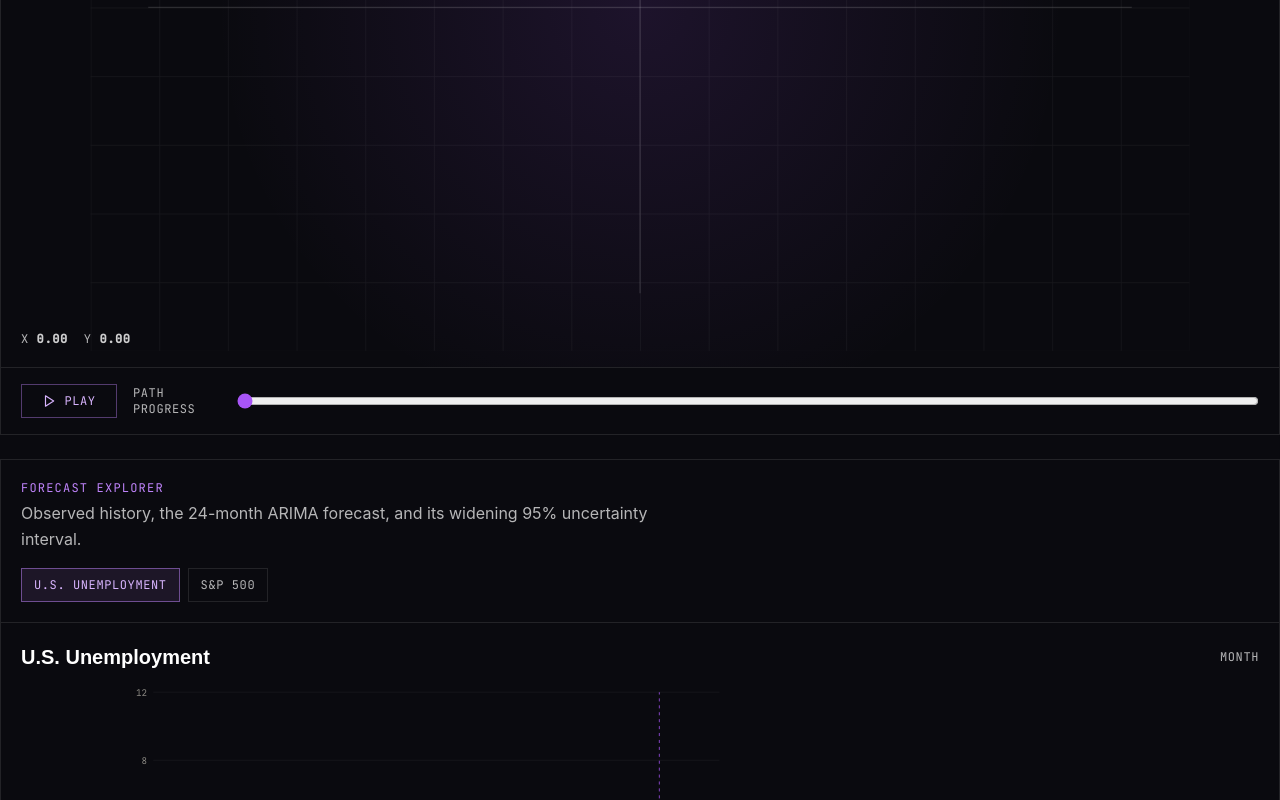
plays and scrubs the fixed Brownian bridge
The image size is (1280, 800).
(page scrolled)
Check: the slider with test id "bridge-slider" holds "0", box [237,393,1259,409]
Click the button with test id "bridge-play": (69, 401) [21,384,117,418]
Wait 200 ms
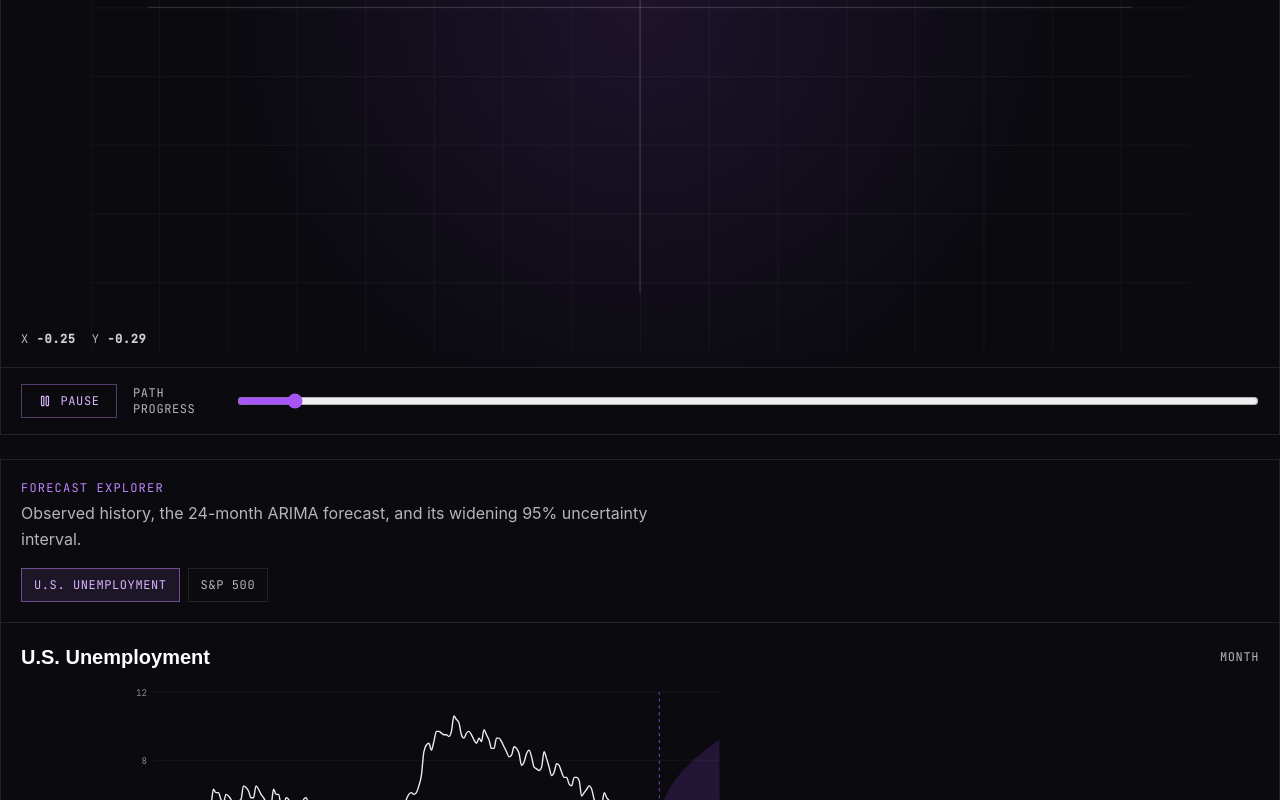
Set the slider with test id "bridge-slider" to "500": (1251, 401) [237,393,1259,409]
(page scrolled)
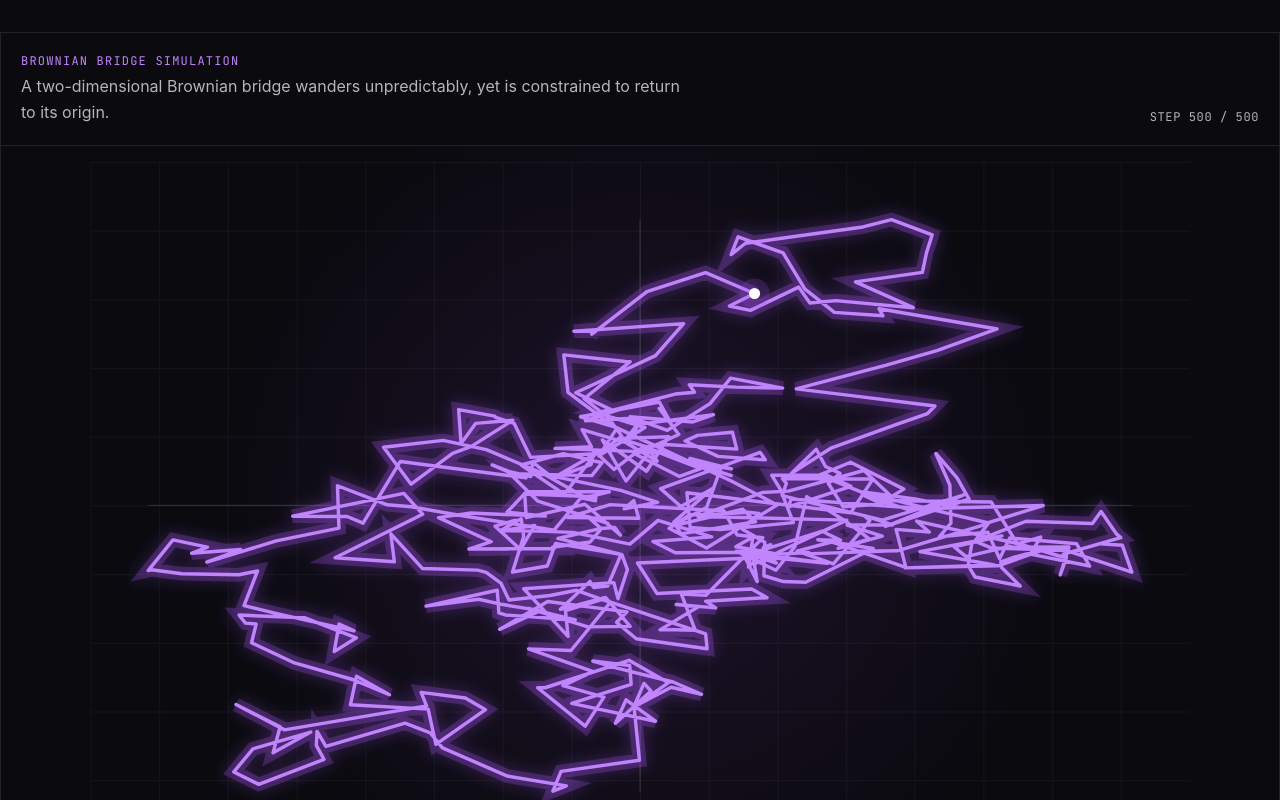
Check: the text with test id "bridge-step" shows "500 / 500", box [1150,109,1259,125]
